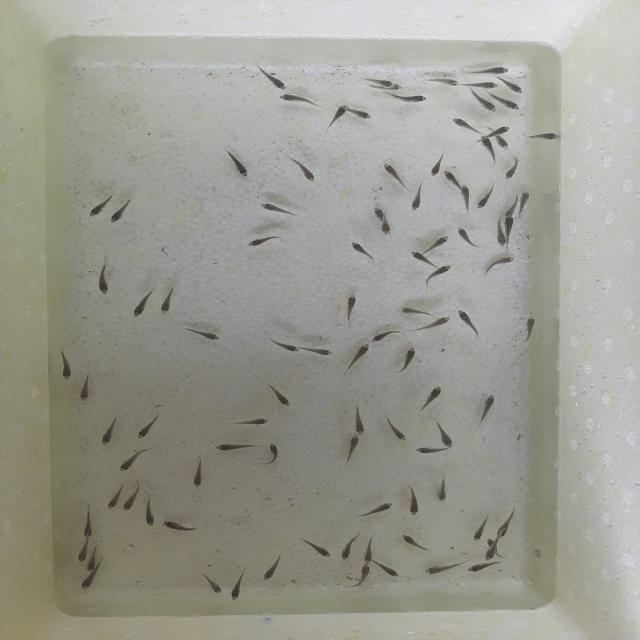fingerling: (250, 62, 286, 91), (473, 392, 503, 424), (224, 150, 252, 182), (288, 156, 317, 185), (322, 102, 350, 130), (279, 92, 317, 112), (136, 410, 161, 440), (492, 92, 526, 114), (296, 538, 333, 558), (358, 502, 396, 520), (384, 417, 411, 442), (108, 200, 132, 228), (266, 383, 294, 407), (382, 160, 404, 190), (119, 448, 146, 472), (456, 310, 482, 334), (122, 481, 140, 514), (198, 572, 225, 594), (348, 341, 369, 369), (496, 507, 516, 536), (58, 348, 75, 382), (418, 386, 444, 408), (131, 292, 152, 319), (402, 484, 419, 517), (156, 288, 176, 316), (182, 329, 225, 342), (398, 533, 429, 551), (347, 240, 372, 262), (86, 196, 111, 218), (484, 255, 518, 271), (244, 234, 282, 248), (352, 404, 369, 435), (347, 431, 364, 462), (99, 421, 120, 446), (468, 94, 497, 112), (424, 234, 450, 254), (464, 64, 511, 75), (78, 505, 94, 537), (399, 346, 417, 374), (436, 420, 454, 448), (214, 441, 256, 453), (162, 519, 198, 533), (422, 562, 458, 576), (409, 250, 434, 270), (351, 562, 371, 587), (422, 315, 453, 331), (410, 183, 426, 213), (341, 296, 359, 322), (264, 556, 282, 582), (455, 226, 476, 248), (435, 476, 452, 503), (338, 536, 357, 560), (190, 457, 204, 489), (376, 559, 402, 576), (266, 445, 287, 466), (501, 78, 528, 94), (228, 574, 244, 601), (465, 562, 504, 573), (472, 513, 486, 543), (465, 79, 499, 91), (261, 202, 295, 214), (266, 340, 300, 352), (105, 488, 122, 512), (238, 416, 275, 427), (517, 190, 531, 219), (417, 78, 462, 87), (522, 132, 562, 142), (397, 306, 430, 318), (368, 331, 404, 342), (448, 116, 474, 131), (98, 266, 111, 296), (478, 185, 494, 209), (504, 157, 520, 181), (362, 537, 378, 561), (79, 574, 98, 594), (143, 497, 156, 526), (351, 109, 377, 123), (383, 96, 428, 104), (76, 538, 89, 564), (80, 376, 92, 404), (458, 184, 470, 211), (429, 264, 452, 278), (523, 315, 537, 338), (304, 346, 336, 356), (416, 445, 448, 455), (482, 136, 494, 162), (494, 220, 506, 246), (86, 550, 98, 574), (488, 124, 511, 136), (495, 136, 513, 151), (443, 170, 459, 186), (430, 152, 440, 176), (504, 214, 514, 237), (380, 221, 394, 236), (366, 79, 392, 87), (505, 199, 517, 215), (372, 206, 383, 220), (485, 547, 495, 561), (391, 84, 404, 92), (486, 539, 498, 547)
